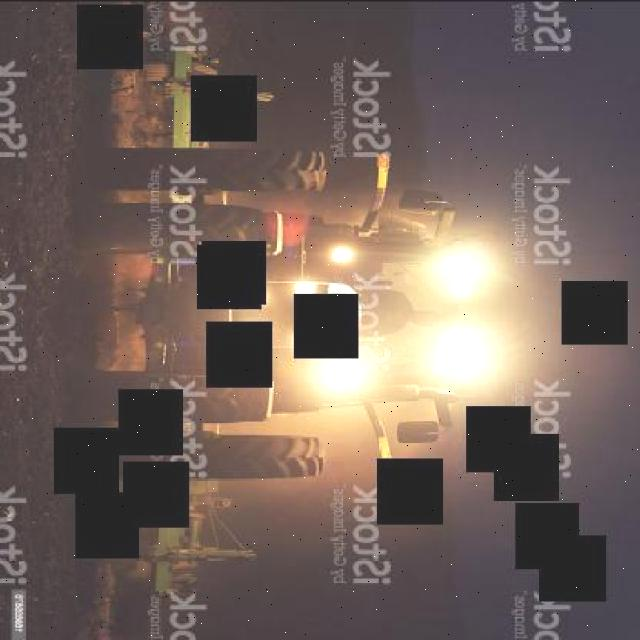Tratores - v5 YOLO V8L 2024-11-13: (0, 129, 528, 500)
